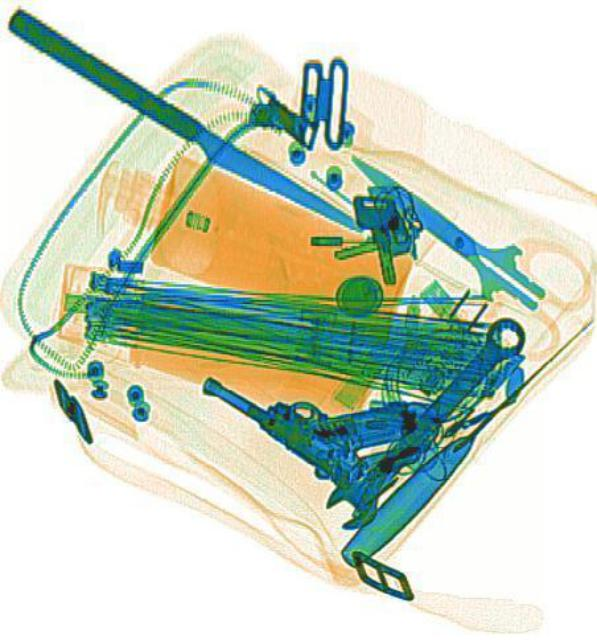Gun: (196, 301, 417, 497)
Knife: (0, 4, 369, 244), (333, 312, 595, 570), (329, 132, 559, 326)
Wrench: (314, 306, 534, 538)
